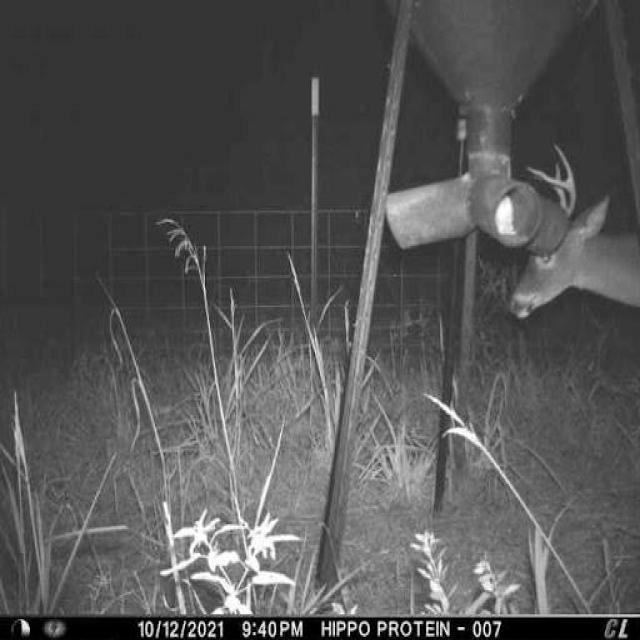Deer: (508, 134, 636, 352)
